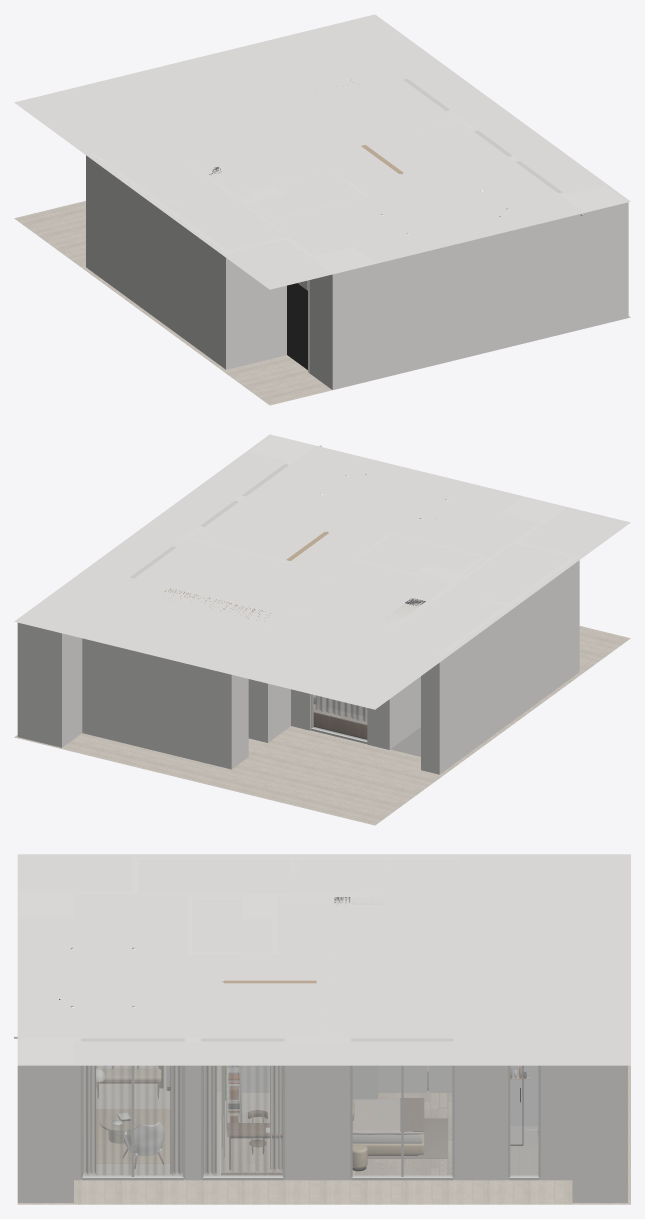
Rendered from apartment_mobile-DNF9jbaK.glb.
3 renders of one model, top to bottom at view 1: azimuth 30°, elevation 25°; view 2: azimuth 150°, elevation 25°; view 3: azimuth 270°, elevation 25°, orthographic. The views are drawn at different scales.
Visible parts, largest first — view 1: ceiling, wall_38, wall_10, wall_36, floor_tile, wall_37, wall_33, door_entrance, wall_34; view 2: ceiling, floor_tile, wall_10, wall_1, wall_0, wall_9, win_bedB_glass, wall_14, wall_6, wall_2, wall_12, wall_36 (+5 smaller); view 3: ceiling, floor_tile, win_east3_glass, curtain_east_living, win_east1_glass, wall_37, win_east2_glass, curtain_east_studio, wall_17, wall_0, wall_5, wall_4 (+31 smaller).
Part boxes in pixels (box(x1,y1,x2,y2)): ceiling: box(14, 14, 630, 289); wall_38: box(377, 213, 584, 379); wall_10: box(89, 152, 231, 369); wall_36: box(309, 246, 376, 389); floor_tile: box(14, 201, 630, 405); wall_37: box(566, 185, 628, 327); wall_33: box(229, 236, 289, 368); door_entrance: box(287, 283, 307, 369); wall_34: box(558, 192, 589, 328); ceiling: box(14, 434, 630, 709); floor_tile: box(14, 626, 630, 825); wall_10: box(438, 555, 579, 771); wall_1: box(82, 638, 234, 769); wall_0: box(17, 622, 82, 747); wall_9: box(421, 653, 442, 774); win_bedB_glass: box(313, 695, 366, 740); wall_14: box(389, 588, 450, 746); wall_6: box(219, 613, 270, 742); wall_2: box(232, 648, 248, 766); wall_12: box(367, 627, 392, 749); wall_36: box(501, 496, 567, 524); ceiling: box(17, 854, 630, 1065); floor_tile: box(17, 1065, 630, 1204); win_east3_glass: box(83, 1066, 182, 1176); curtain_east_living: box(83, 1066, 182, 1174); win_east1_glass: box(353, 1066, 451, 1176); wall_37: box(17, 1041, 73, 1202); win_east2_glass: box(204, 1066, 282, 1176); curtain_east_studio: box(204, 1066, 282, 1174); wall_17: box(285, 1038, 349, 1180); wall_0: box(572, 1065, 627, 1202); wall_5: box(454, 1039, 507, 1180); wall_4: box(541, 1065, 572, 1180).
Size of the model in its own units: 9.79 by 3 by 12.09.
Materials: 131 (25 with a texture image).
